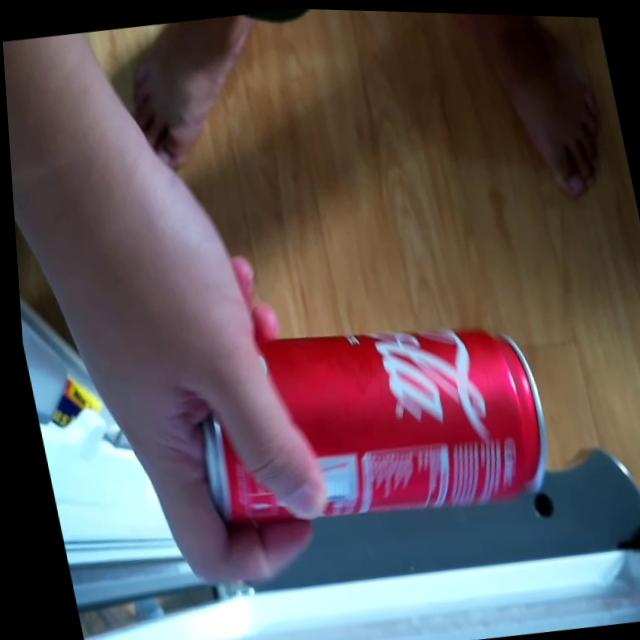coke: (169, 295, 553, 546)
